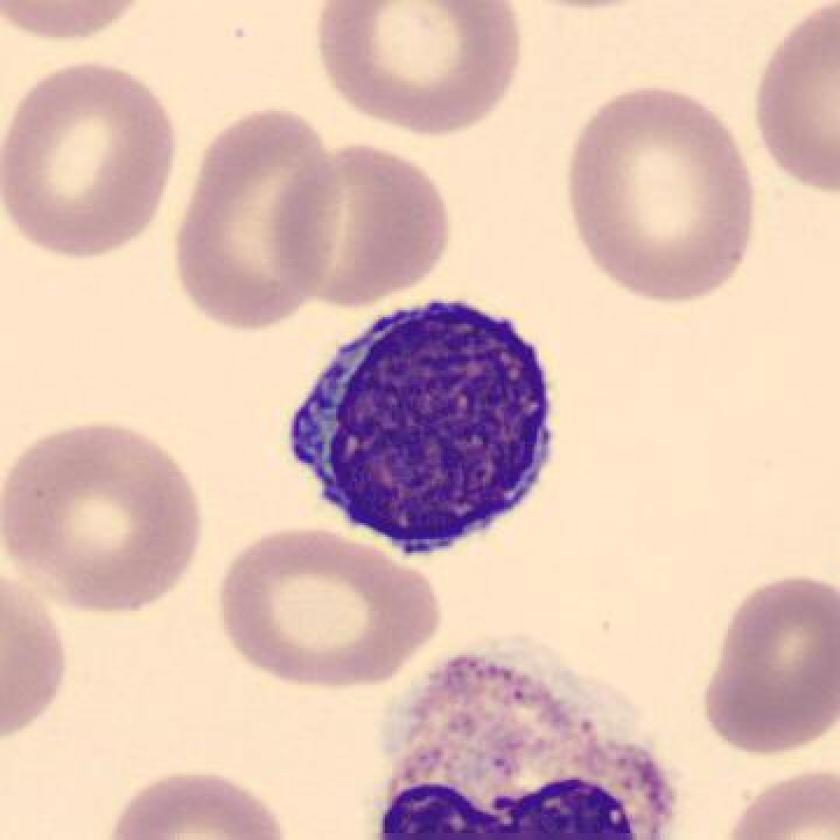lymphocyte: (267, 290, 580, 573)
